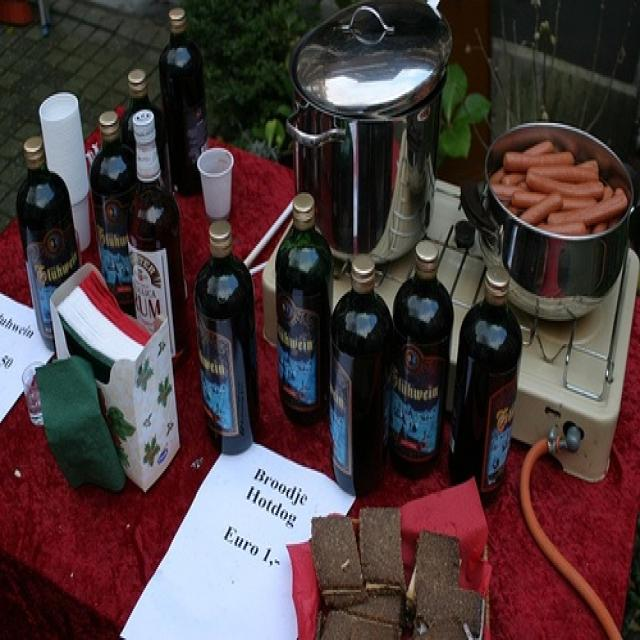bottle: (448, 267, 522, 507), (128, 111, 192, 361), (194, 220, 260, 455), (331, 257, 393, 499), (394, 242, 455, 482), (16, 136, 78, 353), (276, 195, 334, 426), (91, 109, 138, 318), (159, 11, 207, 195), (120, 68, 169, 174)
